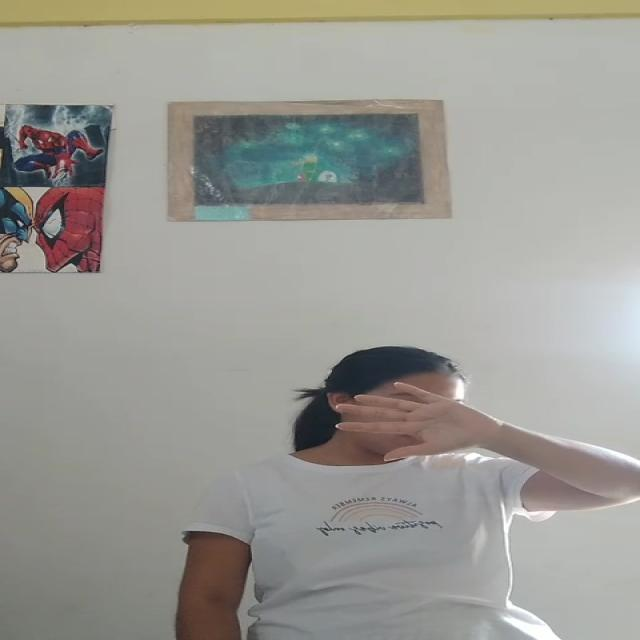7_mano_rostro: (344, 380, 505, 452)
